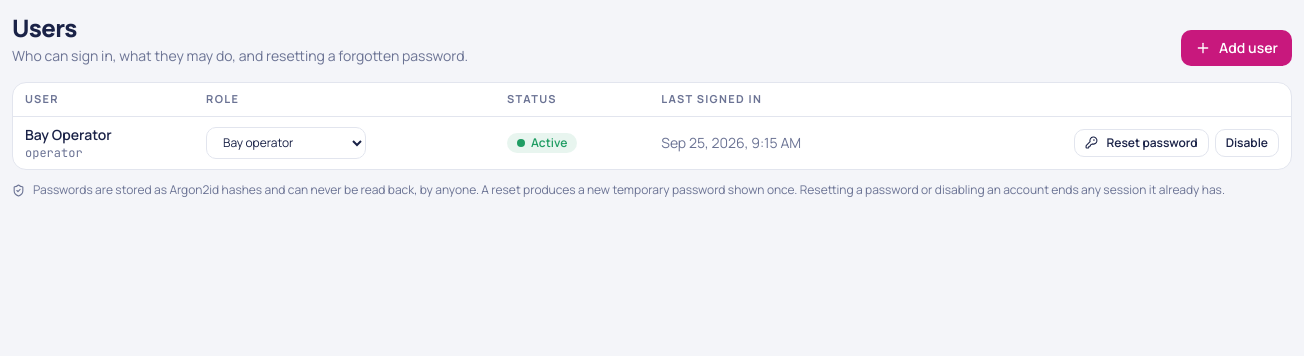
Test: user management › shows a reset password once, and says it cannot be shown again
The width and height of the screenshot is (1304, 356).
Click the button "Reset password".
click(1142, 142)  # box [1074,128,1209,156]
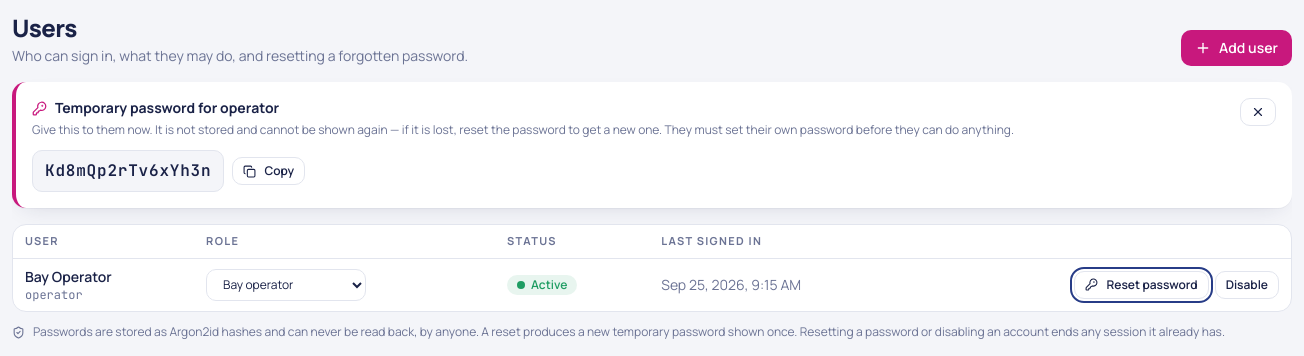
Result: the text "Kd8mQp2rTv6xYh3n" is shown at [32,150,224,192]
Result: the text "cannot be shown again" is shown at [32,121,1014,138]
